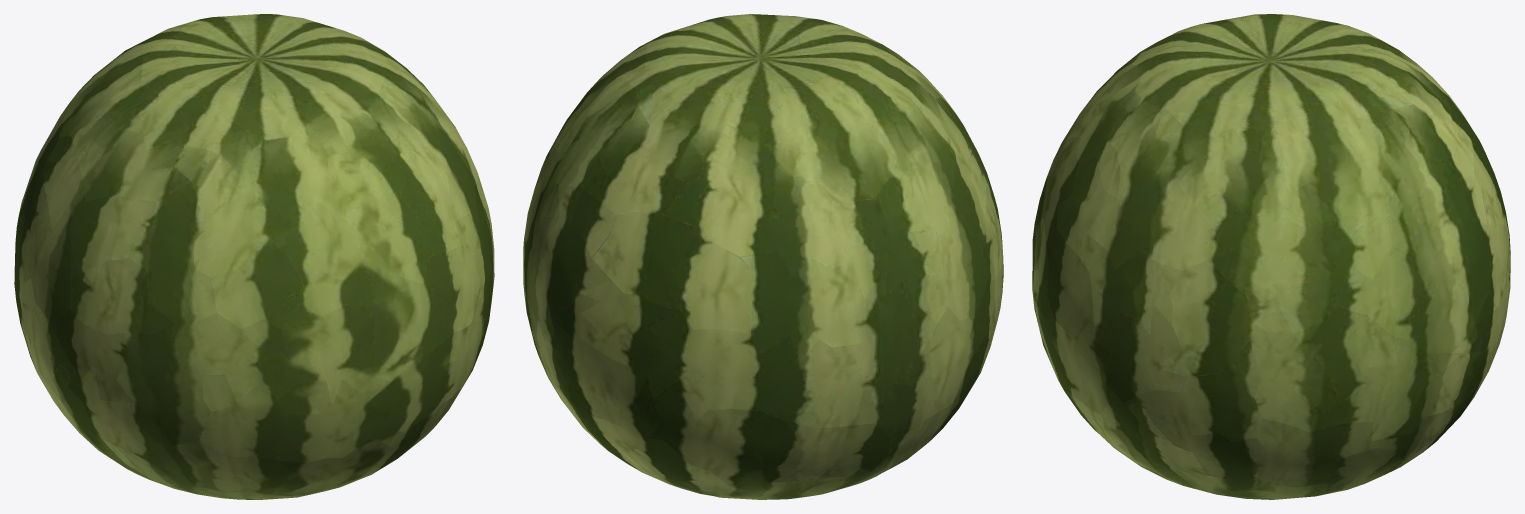
File: watermelon.glb
3 renders of one model, left to right at view 1: azimuth 30°, elevation 25°; view 2: azimuth 150°, elevation 25°; view 3: azimuth 270°, elevation 25°, orthographic.
Size of the model in its own units: 1.9 by 1.78 by 1.9.
Materials: 1 (1 with a texture image).
